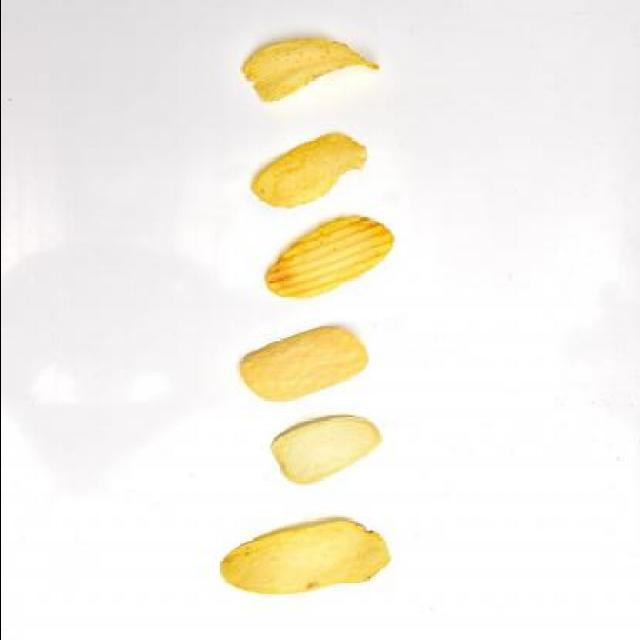Chips packaged: (214, 517, 400, 595), (253, 209, 399, 300), (238, 322, 374, 407), (237, 33, 381, 109), (245, 131, 373, 214), (256, 410, 386, 488)
